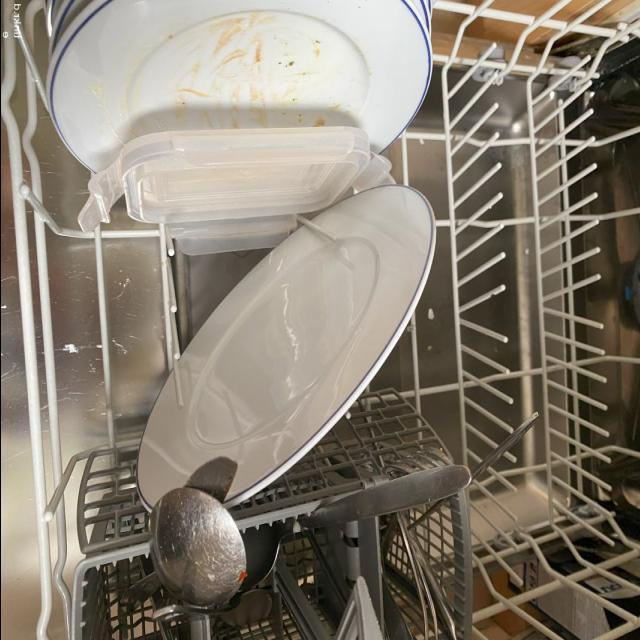clutery_bin: (86, 508, 471, 634)
empty_slot: (469, 12, 634, 636)
